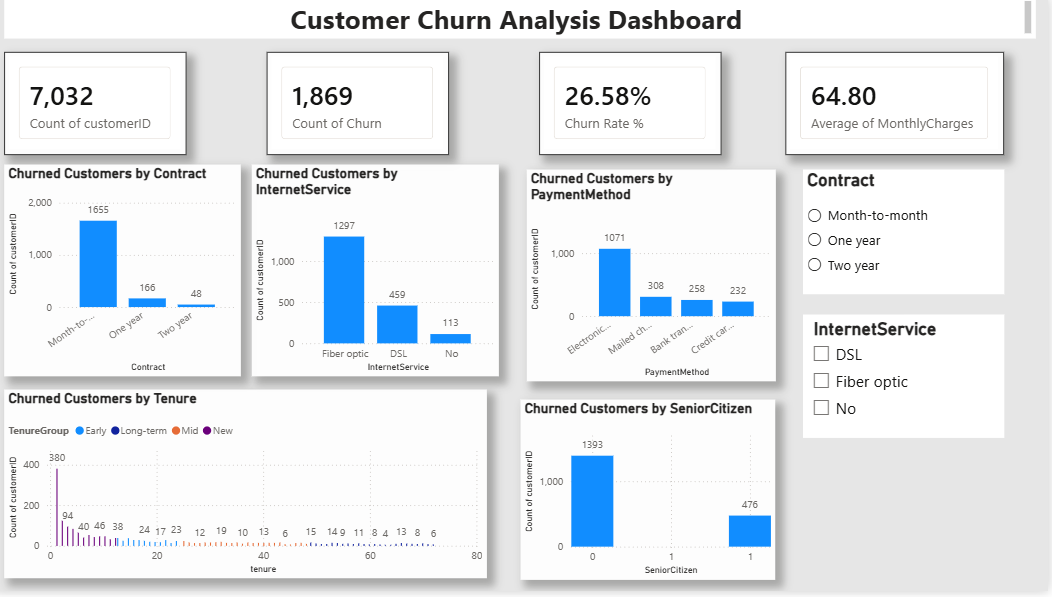

Layout of this report page (visuals, bound fields, positions):
{"tool":"powerbi","page":{"name":"Page 1","canvas":[1280,720],"ordinal":0},"visuals":[{"type":"cardVisual","fields":{"Data":["CountNonNull(customer_churn_cleaned.customerID)"]},"box":[13.7,67.2,220.9,124.9],"z":0},{"type":"cardVisual","fields":{"Data":["CountNonNull(customer_churn_cleaned.customerID)"]},"box":[332.1,67.2,220.9,124.9],"z":1},{"type":"cardVisual","fields":{"Data":["customer_churn_cleaned.Churn Rate %"]},"box":[662.8,67.2,220.9,124.9],"z":2},{"type":"cardVisual","fields":{"Data":["Avg(customer_churn_cleaned.MonthlyCharges)"]},"box":[960.6,67.2,264.8,124.9],"z":3},{"type":"clusteredColumnChart","title":"Churned Customers by Contract","fields":{"Category":["customer_churn_cleaned.Contract"],"Y":["CountNonNull(customer_churn_cleaned.customerID)"]},"box":[13.7,203.1,286.8,256.6],"z":4},{"type":"clusteredColumnChart","title":"Churned Customers by InternetService","fields":{"Category":["customer_churn_cleaned.InternetService"],"Y":["CountNonNull(customer_churn_cleaned.customerID)"]},"box":[314.2,203.1,299.1,256.6],"z":5},{"type":"clusteredColumnChart","title":"Churned Customers  by PaymentMethod","fields":{"Category":["customer_churn_cleaned.PaymentMethod"],"Y":["CountNonNull(customer_churn_cleaned.customerID)"]},"box":[646.3,208.6,301.9,256.6],"z":6},{"type":"clusteredColumnChart","title":"Churned Customers by Tenure","fields":{"Category":["customer_churn_cleaned.tenure"],"Y":["CountNonNull(customer_churn_cleaned.customerID)"],"Series":["customer_churn_cleaned.TenureGroup"]},"box":[13.7,476.2,584.6,229.2],"z":7},{"type":"clusteredColumnChart","title":"Churned Customers by SeniorCitizen","fields":{"Category":["customer_churn_cleaned.SeniorCitizen"],"Y":["CountNonNull(customer_churn_cleaned.customerID)"]},"box":[639.5,487.1,308.7,218.2],"z":8},{"type":"listSlicer","fields":{"Values":["customer_churn_cleaned.Contract"]},"box":[981.1,208.6,244.3,150.9],"z":9},{"type":"slicer","fields":{"Values":["customer_churn_cleaned.InternetService"]},"box":[981.1,384.2,244.3,149.6],"z":10},{"type":"textbox","box":[13.7,0,1250.1,50.8],"z":11}]}

Visuals, with their boxes in screenshot pixels (x1, y1, x2, y2), scaled from the page's 1280x720 canvas onto the 1052x597 screenshot:
cardVisual - CountNonNull(customer_churn_cleaned.customerID): select_region(11, 56, 193, 159)
cardVisual - CountNonNull(customer_churn_cleaned.customerID): select_region(273, 56, 454, 159)
cardVisual - customer_churn_cleaned.Churn Rate %: select_region(545, 56, 726, 159)
cardVisual - Avg(customer_churn_cleaned.MonthlyCharges): select_region(789, 56, 1007, 159)
"Churned Customers by Contract" clusteredColumnChart: select_region(11, 168, 247, 381)
"Churned Customers by InternetService" clusteredColumnChart: select_region(258, 168, 504, 381)
"Churned Customers  by PaymentMethod" clusteredColumnChart: select_region(531, 173, 779, 386)
"Churned Customers by Tenure" clusteredColumnChart: select_region(11, 395, 492, 585)
"Churned Customers by SeniorCitizen" clusteredColumnChart: select_region(526, 404, 779, 585)
listSlicer - customer_churn_cleaned.Contract: select_region(806, 173, 1007, 298)
slicer - customer_churn_cleaned.InternetService: select_region(806, 319, 1007, 443)
textbox: select_region(11, 0, 1039, 42)
